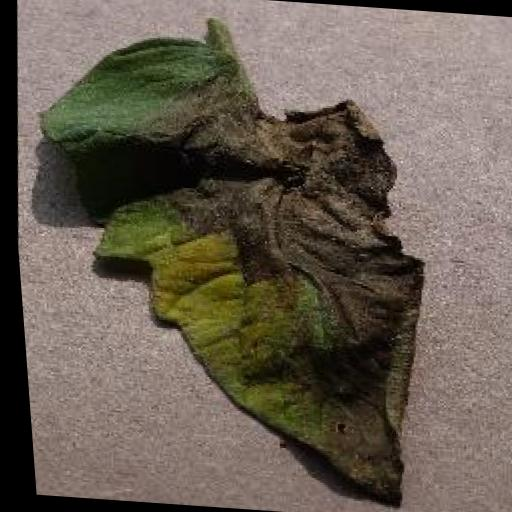Late Blight: (1, 23, 454, 511)
